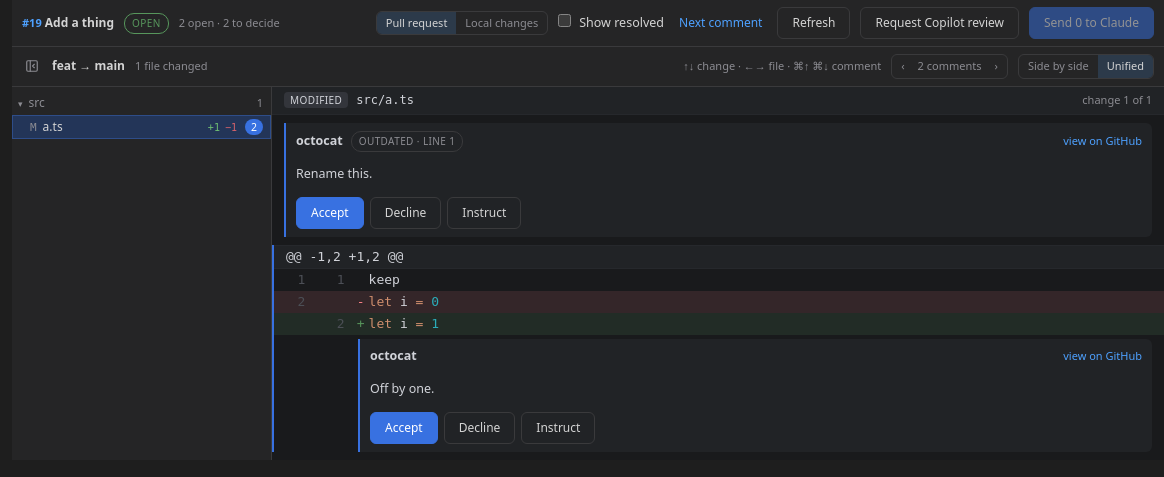
it: ReviewView › local changes › puts a comment on a line the diff does not show at the head of its file
Check: the text "Off by one." is shown, box [370, 380, 434, 396]
Click the button "Local changes".
click(502, 23)  # box [456, 12, 547, 34]
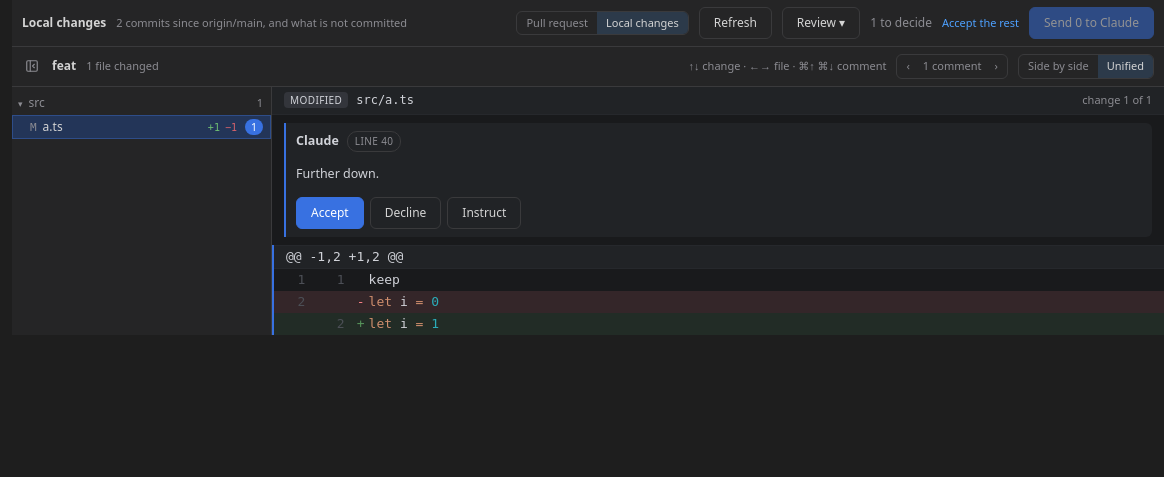
Check: the text "2 commits since origin/main, and what is not committed" is shown, box [116, 15, 407, 31]
Check: the text "Further down." is shown, box [296, 165, 379, 182]
Check: the text "line 40" is shown, box [347, 130, 401, 152]
